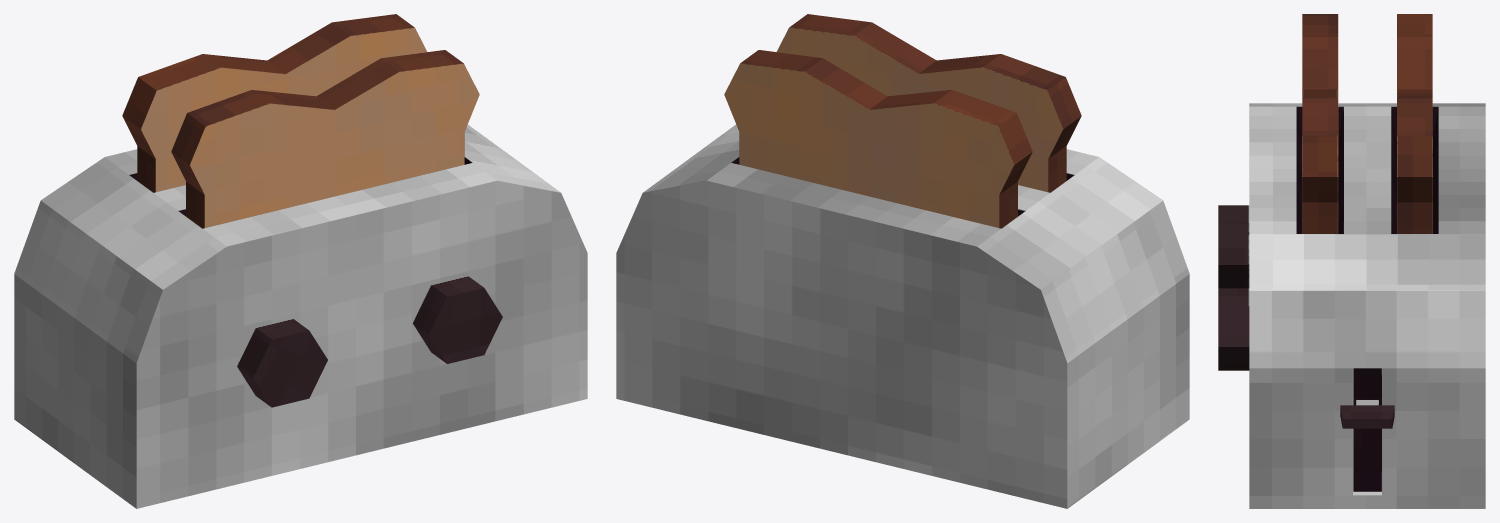
File: toaster_bread.fbx
The picture shows the model from 3 angles, left to right: view 1: azimuth 30°, elevation 25°; view 2: azimuth 150°, elevation 25°; view 3: azimuth 270°, elevation 25°; orthographic projection. The views are drawn at different scales.
Visible parts, largest first — view 1: toaster w toast; view 2: toaster w toast; view 3: toaster w toast.
Boxes of the visible parts, x1=… form: toaster w toast: x1=14, y1=14, x2=587, y2=508; toaster w toast: x1=616, y1=14, x2=1189, y2=508; toaster w toast: x1=1218, y1=14, x2=1485, y2=508.
Bounding box in the file's own units: 62.66 × 42.45 × 30.76.
Materials: 1 (1 with a texture image).
